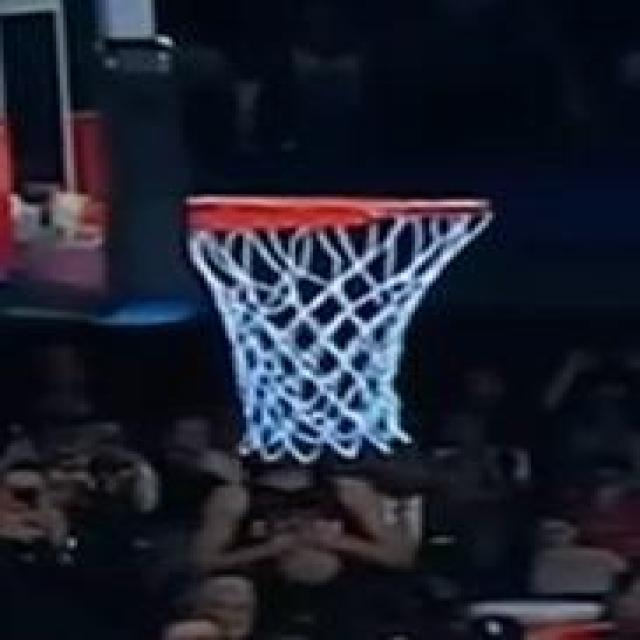hoop: (196, 187, 506, 461)
